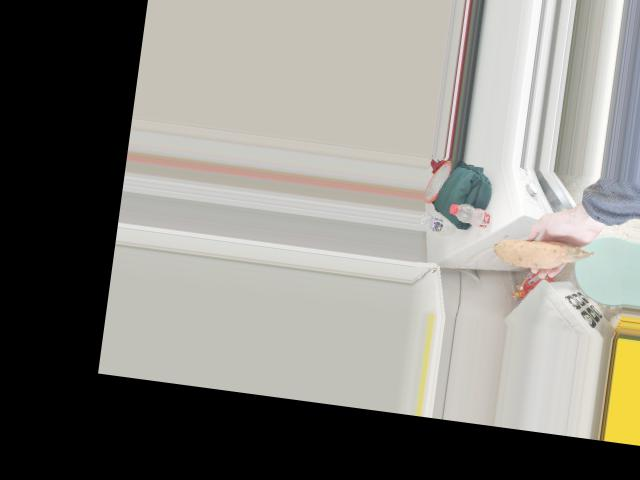sweet_potato: (491, 232, 590, 275)
